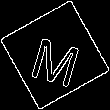M_N: (26, 24, 84, 86)
